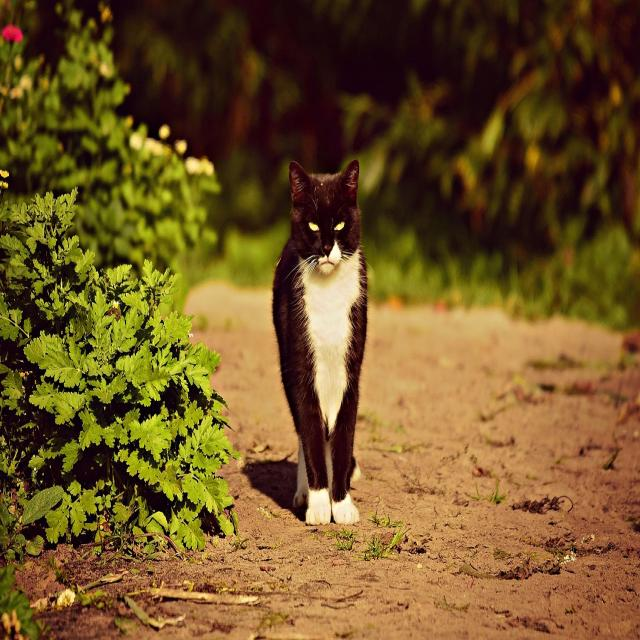cat: (273, 157, 368, 525)
